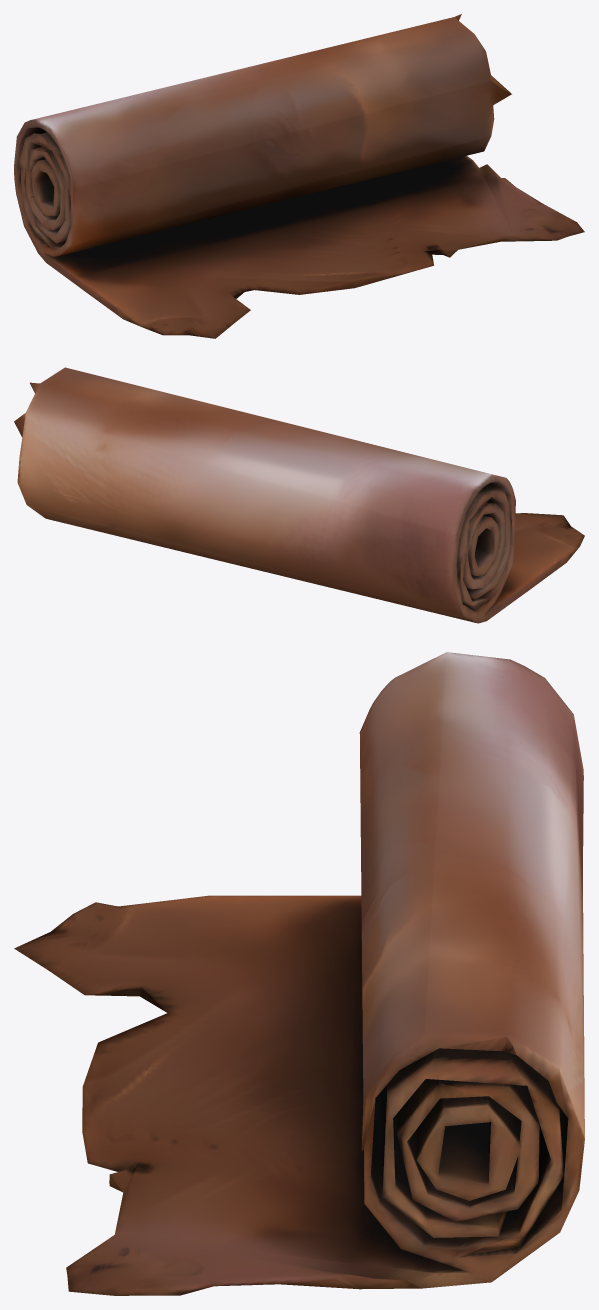
File: base_basic_shaded.fbx
3 views of the same model, one above another, from view 1: azimuth 30°, elevation 25°; view 2: azimuth 150°, elevation 25°; view 3: azimuth 270°, elevation 25° (orthographic). The views are drawn at different scales.
Visible parts, largest first — view 1: model; view 2: model; view 3: model.
Boxes of the visible parts, x1=… form: model: x1=14, y1=14, x2=584, y2=338; model: x1=14, y1=367, x2=584, y2=623; model: x1=14, y1=652, x2=584, y2=1295.
Size of the model in its own units: 183 by 55.11 by 111.
